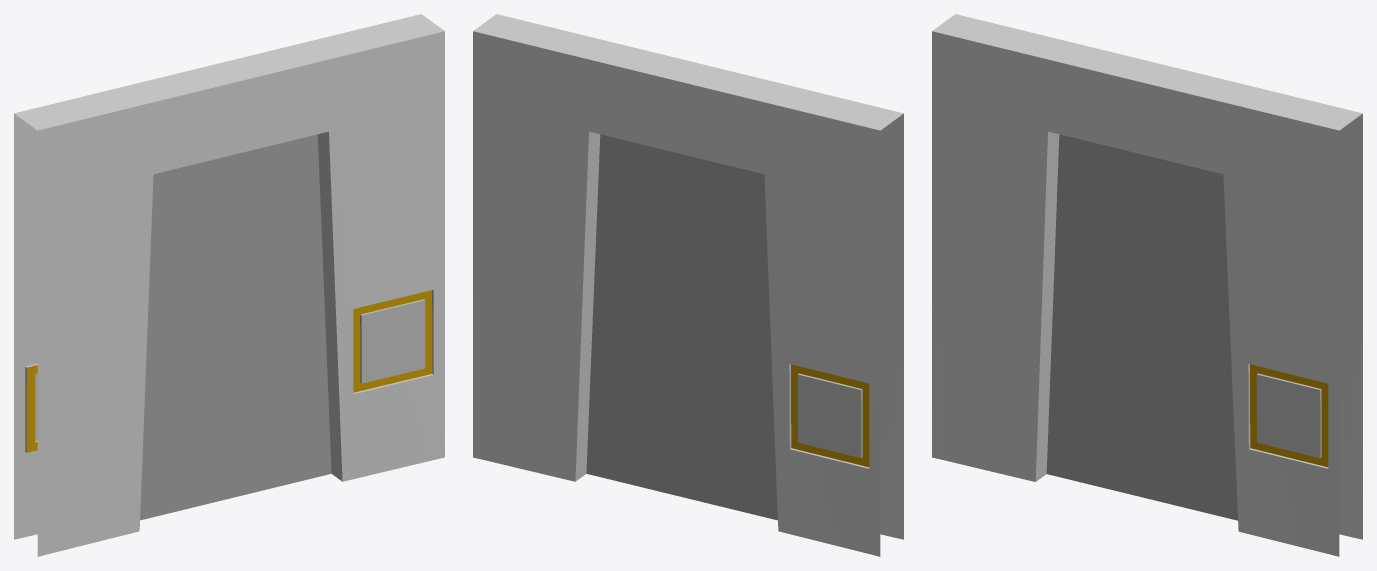
File: Door_V2.fbx
The picture shows the model from 3 angles, left to right: view 1: azimuth 30°, elevation 25°; view 2: azimuth 150°, elevation 25°; view 3: azimuth 330°, elevation 25°; orthographic projection.
Visible parts, largest first — view 1: Frame, Hologram, Control_Panel_Front, Control_panel_back; view 2: Frame, Hologram, Control_panel_back; view 3: Frame, Hologram, Control_Panel_Front.
Boxes of the visible parts, x1,y1,x2,y2 form: Frame: [14, 14, 444, 556]; Hologram: [140, 134, 331, 520]; Control_Panel_Front: [353, 290, 432, 392]; Control_panel_back: [26, 365, 37, 452]; Frame: [473, 14, 903, 556]; Hologram: [586, 134, 777, 520]; Control_panel_back: [791, 364, 869, 467]; Frame: [932, 14, 1362, 556]; Hologram: [1046, 134, 1237, 520]; Control_Panel_Front: [1250, 364, 1328, 467].
Bounding box in the file's own units: 500 × 500 × 50.
